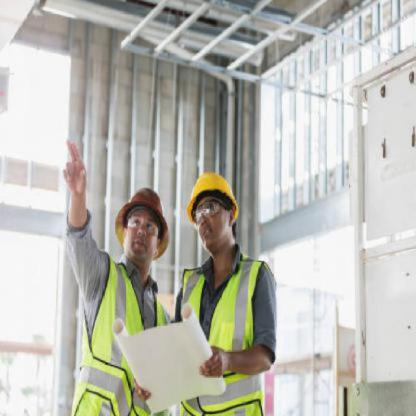glass: (122, 210, 160, 239), (188, 195, 225, 219)
person: (42, 156, 176, 414), (172, 164, 280, 414)
vest-helm: (69, 258, 168, 415), (176, 254, 269, 416)
yellow-helm: (188, 168, 245, 214)
